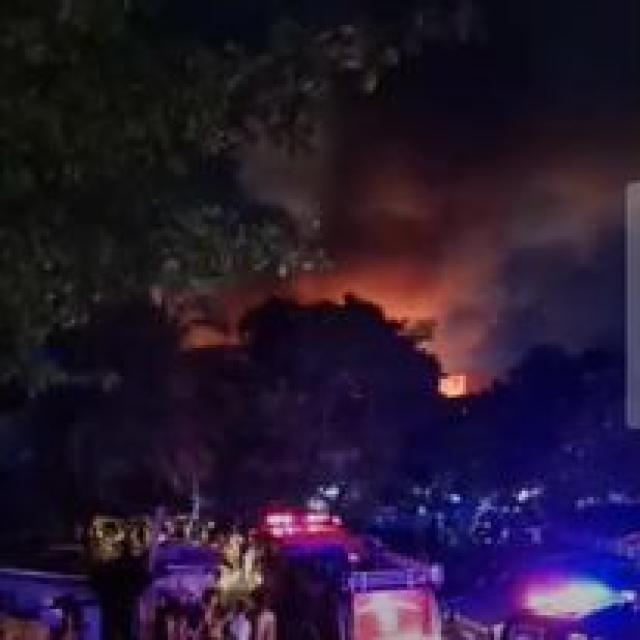Fire: (318, 248, 474, 398)
Smoke: (215, 0, 640, 267)
